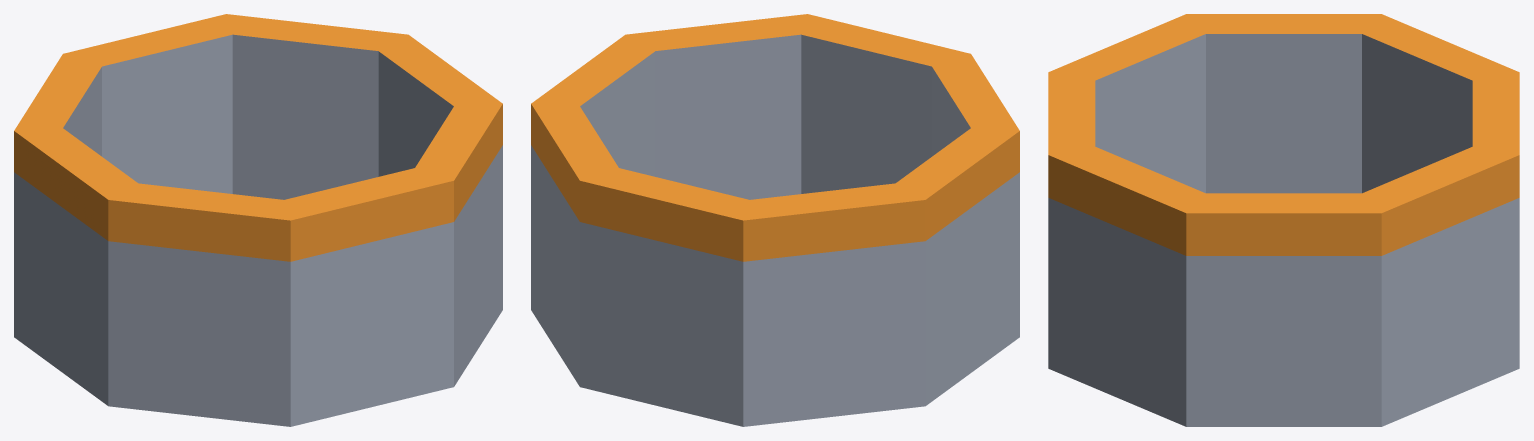
File: k-rocket-fuel-a.glb
3 views of the same model, side by side, from view 1: azimuth 30°, elevation 25°; view 2: azimuth 150°, elevation 25°; view 3: azimuth 270°, elevation 25° (orthographic). The views are drawn at different scales.
Visible parts, largest first — view 1: rocket_fuelA; view 2: rocket_fuelA; view 3: rocket_fuelA.
Boxes of the visible parts, <box> form: rocket_fuelA: <box>14,14,502,426</box>; rocket_fuelA: <box>531,14,1019,426</box>; rocket_fuelA: <box>1048,14,1519,426</box>.
Size of the model in its own units: 1 by 0.5 by 1.
